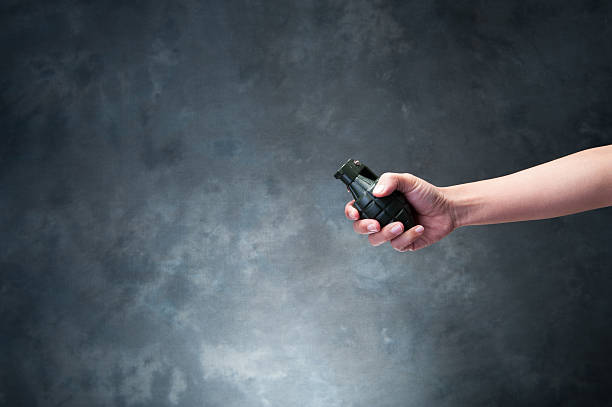e1: (337, 156, 412, 232)
